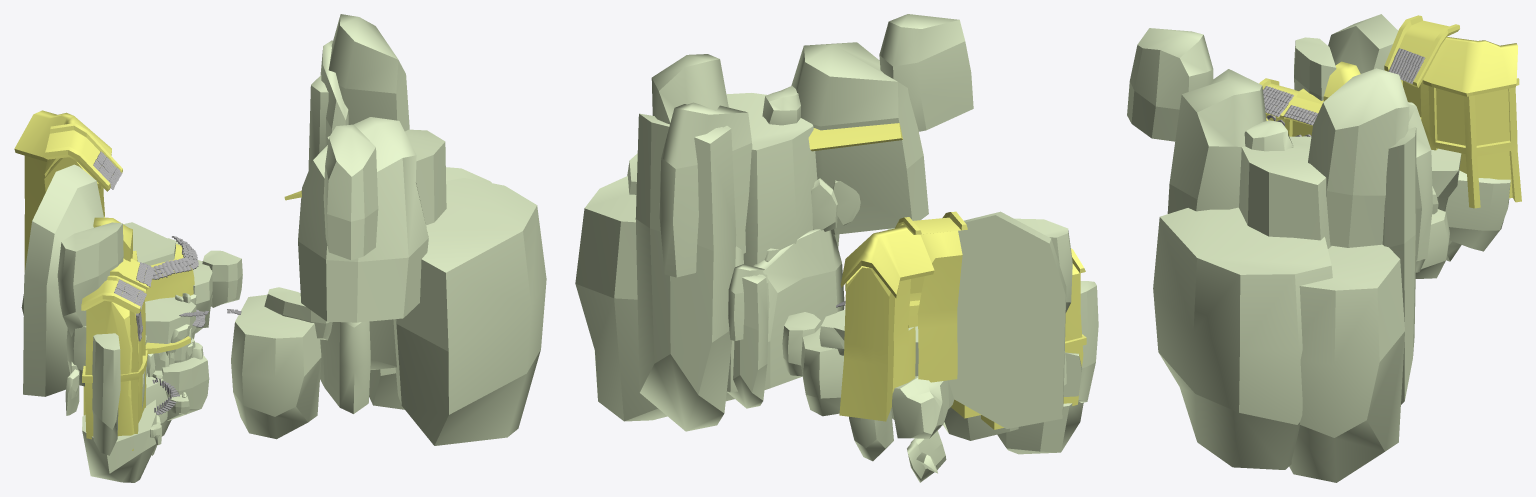
The picture shows the model from 3 angles, left to right: view 1: azimuth 30°, elevation 25°; view 2: azimuth 150°, elevation 25°; view 3: azimuth 270°, elevation 25°; orthographic projection. The views are drawn at different scales.
Visible parts, largest first — view 1: R2A__48_, R2A__65_, R2A__2__2, R1B__1_, R2A__53_, R2A__60_, R2A__25_, R2A__45_, R2A__43_, pCube379, pCube422, R2A__6_ (+16 smaller); view 2: R2A__59_, R1B__1_, pCube422, R2A__65_, R2A__54_, R2A__43_, R2A__50_, R2A__53_, R2A__45_, R2A__51_, R2A__60_, R5A__27_ (+18 smaller); view 3: R2A__48_, R2A__54_, pCube422, R2A__60_, R2A__65_, R2A__43_, R2A__53_, R2A__59_, R2A__39_, R1B__1_, R2A__50_, polySurface2369 (+6 smaller).
Part boxes in pixels (x1,y1,x2,y2): R2A__48_: [393, 178, 546, 445]; R2A__65_: [298, 117, 428, 322]; R2A__2__2: [231, 294, 321, 439]; R1B__1_: [23, 164, 103, 396]; R2A__53_: [323, 124, 378, 259]; R2A__60_: [328, 14, 409, 131]; R2A__25_: [57, 222, 123, 336]; R2A__45_: [320, 321, 370, 413]; R2A__43_: [326, 129, 446, 369]; pCube379: [85, 300, 145, 450]; pCube422: [14, 110, 111, 271]; R2A__6_: [92, 333, 120, 455]; R2A__59_: [635, 113, 736, 431]; R1B__1_: [948, 211, 1066, 428]; pCube422: [839, 226, 962, 421]; R2A__65_: [791, 42, 928, 234]; R2A__54_: [575, 176, 734, 421]; R2A__43_: [726, 93, 817, 265]; R2A__50_: [659, 102, 752, 277]; R2A__53_: [879, 14, 973, 131]; R2A__45_: [753, 229, 844, 389]; R2A__51_: [726, 274, 768, 408]; R2A__60_: [651, 54, 728, 124]; R5A__27_: [892, 376, 948, 438]; R2A__48_: [1153, 207, 1332, 469]; R2A__54_: [1289, 244, 1404, 482]; pCube422: [1401, 37, 1521, 208]; R2A__60_: [1308, 68, 1409, 247]; R2A__65_: [1167, 69, 1266, 213]; R2A__43_: [1238, 136, 1331, 248]; R2A__53_: [1127, 28, 1213, 141]; R2A__59_: [1382, 127, 1416, 404]; R2A__39_: [1444, 170, 1510, 251]; R1B__1_: [1328, 14, 1398, 73]; R2A__50_: [1408, 102, 1432, 260]; polySurface2369: [1384, 15, 1459, 87].
Size of the model in its own units: 12422 by 9816 by 9585.
